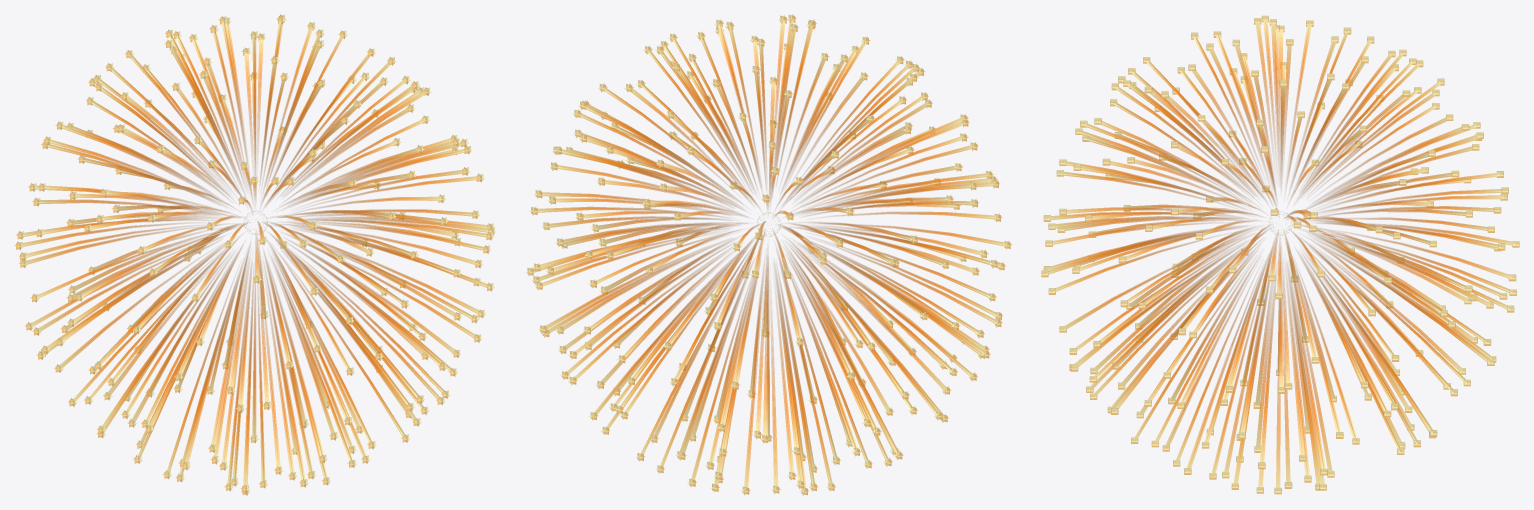
Rendered from fw_willow_gold_a.glb.
3 renders of one model, left to right at view 1: azimuth 30°, elevation 25°; view 2: azimuth 150°, elevation 25°; view 3: azimuth 270°, elevation 25°, orthographic.
Parts seen in each view (by area): view 1: spire; view 2: spire; view 3: spire.
Part boxes in pixels (<box>): spire: <box>14,14,496,495</box>; spire: <box>526,14,1011,495</box>; spire: <box>1041,15,1519,494</box>.
Bounding box in the file's own units: 19.08 × 19.13 × 19.23.
Materials: 2 (2 with a texture image).
